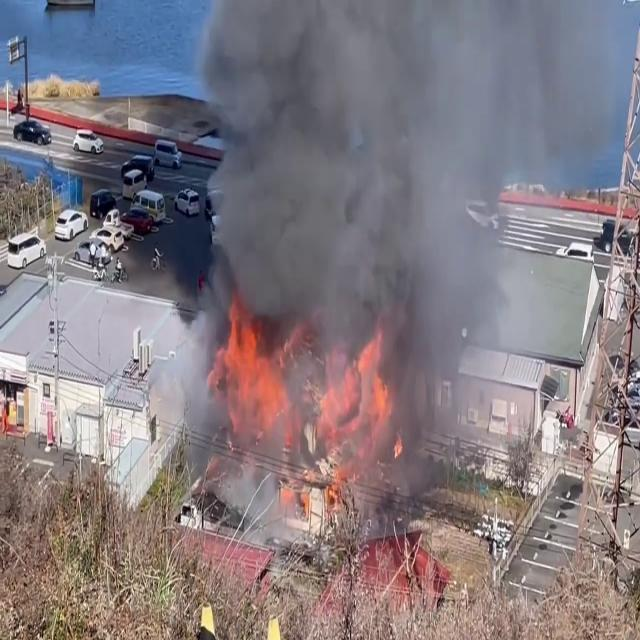Fire: (208, 301, 290, 429), (320, 327, 400, 452)
Smoke: (193, 0, 561, 515)
